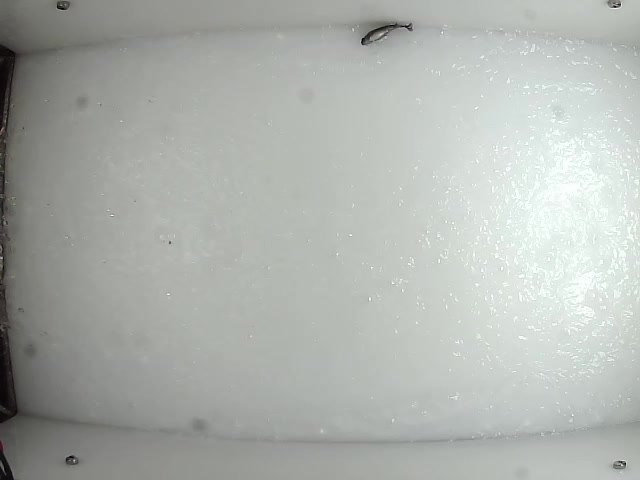fish: (356, 19, 415, 47)
